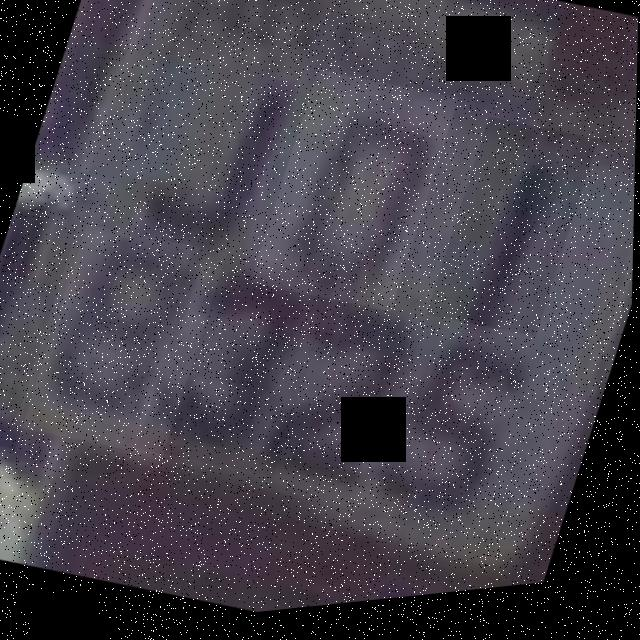2: (258, 275, 451, 511)
3: (137, 240, 339, 494)
5: (373, 302, 568, 546)
7: (0, 181, 95, 451)
9: (15, 212, 229, 473)
D: (250, 65, 460, 332)
I: (427, 118, 600, 357)
J: (100, 38, 301, 288)
